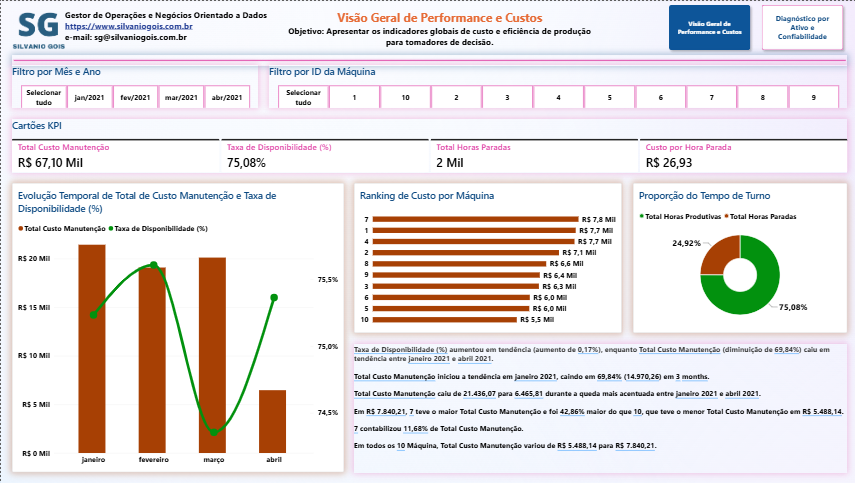

This screenshot's page, from the dashboard's own definition file:
{"tool":"powerbi","page":{"name":"Visão Geral de Performance e Custos","canvas":[1920,1080],"ordinal":0},"visuals":[{"type":"textbox","box":[624,0,720,120],"z":0},{"type":"pageNavigator","box":[1488,0,408,120],"z":1},{"type":"image","box":[24,0,120,120],"z":2},{"type":"textbox","box":[144,0,480,120],"z":3},{"type":"shape","box":[24,120,1872,24],"z":4},{"type":"slicer","title":"Filtro por Mês e Ano","fields":{"Values":["dCalendario.Mês/Ano"]},"box":[24,144,552,96],"z":5},{"type":"slicer","title":"Filtro por ID da Máquina","fields":{"Values":["fManutencao.Máquina"]},"box":[600,144,1296,96],"z":6},{"type":"cardVisual","title":"Cartões KPI","fields":{"Data":["Medidas.Total Custo Manutenção","Medidas.Taxa de Disponibilidade (%)","Medidas.Total Horas Paradas","Medidas.Custo por Hora Parada"]},"box":[24,264,1872,120],"z":7},{"type":"lineClusteredColumnComboChart","title":"Evolução Temporal de Total de Custo Manutenção e Taxa de Disponibilidade (%)","fields":{"Category":["dCalendario.Date.Variation.Hierarquia de datas.Ano","dCalendario.Date.Variation.Hierarquia de datas.Trimestre","dCalendario.Date.Variation.Hierarquia de datas.Mês","dCalendario.Date.Variation.Hierarquia de datas.Dia"],"Y":["Medidas.Total Custo Manutenção"],"Y2":["Medidas.Taxa de Disponibilidade (%)"]},"box":[24,408,744,648],"z":8},{"type":"clusteredBarChart","title":"Ranking de Custo por Máquina","fields":{"Category":["fManutencao.Máquina"],"Y":["Medidas.Total Custo Manutenção"]},"box":[792,408,600,336],"z":9},{"type":"donutChart","title":"Proporção do Tempo de Turno","fields":{"Y":["Medidas.Total Horas Produtivas","Medidas.Total Horas Paradas"]},"box":[1416,408,480,336],"z":10},{"type":"textbox","box":[792,768,1104,288],"z":11}]}

Visuals, with their boxes in screenshot pixels (x1, y1, x2, y2), scaled from the page's 1920x1080 canvas onto the 855x483 screenshot:
textbox: (x1=278, y1=0, x2=598, y2=54)
pageNavigator: (x1=663, y1=0, x2=844, y2=54)
image: (x1=11, y1=0, x2=64, y2=54)
textbox: (x1=64, y1=0, x2=278, y2=54)
shape: (x1=11, y1=54, x2=844, y2=64)
"Filtro por Mês e Ano" slicer: (x1=11, y1=64, x2=256, y2=107)
"Filtro por ID da Máquina" slicer: (x1=267, y1=64, x2=844, y2=107)
"Cartões KPI" cardVisual: (x1=11, y1=118, x2=844, y2=172)
"Evolução Temporal de Total de Custo Manutenção e Taxa de Disponibilidade (%)" lineClusteredColumnComboChart: (x1=11, y1=182, x2=342, y2=472)
"Ranking de Custo por Máquina" clusteredBarChart: (x1=353, y1=182, x2=620, y2=333)
"Proporção do Tempo de Turno" donutChart: (x1=631, y1=182, x2=844, y2=333)
textbox: (x1=353, y1=343, x2=844, y2=472)
